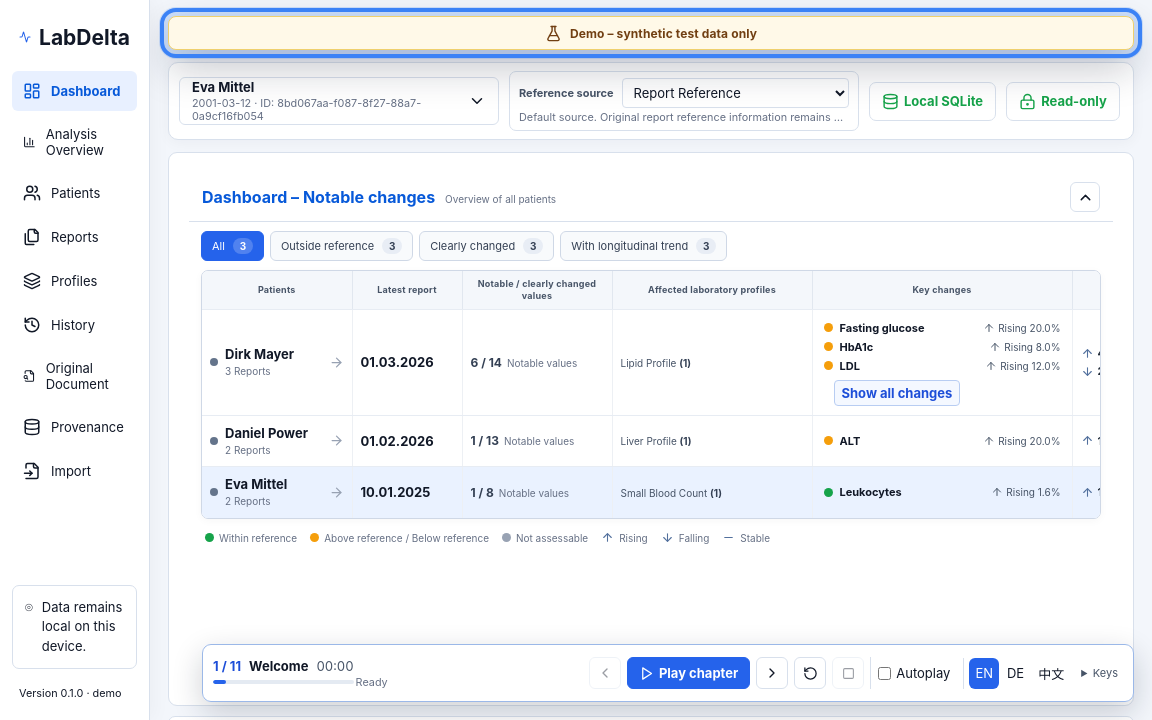
it: persisted synthetic demo flow › keeps report reference default and exposes only the demo catalog as another active choice
Select "Demo Reference Catalog v1" in the dropdown labelled "Reference source" at (735, 93), box [622, 78, 849, 108]
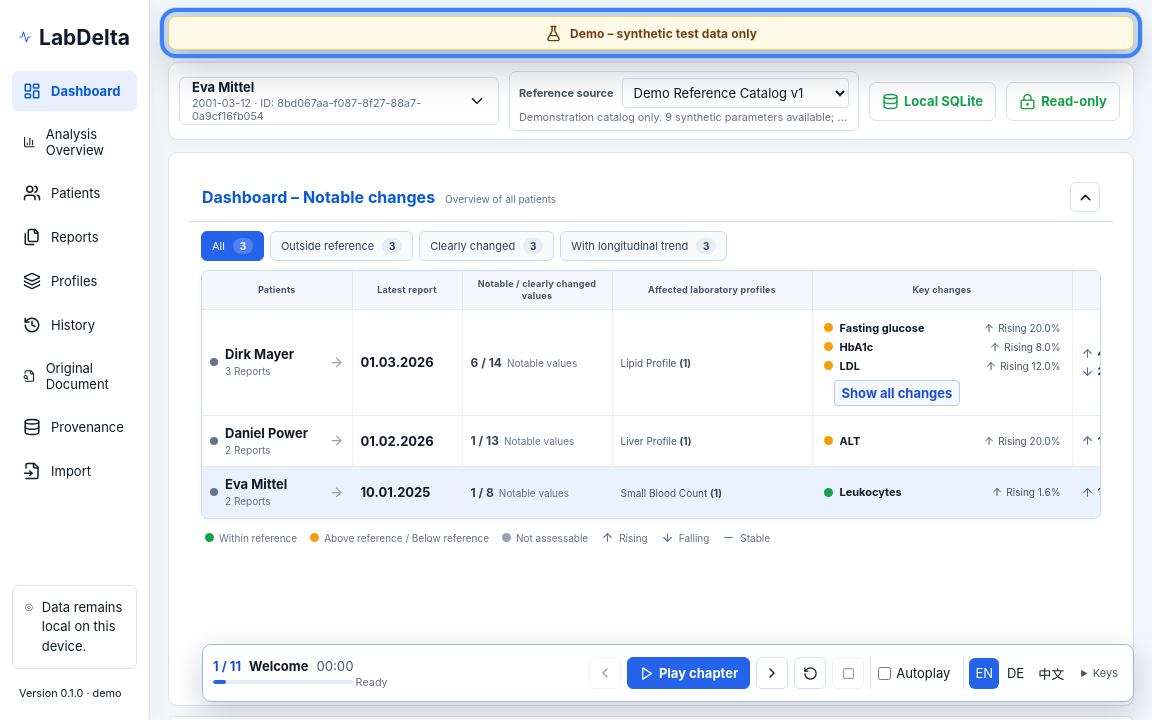
Now the text "9 synthetic parameters available; not applied automatically" is shown, box [662, 111, 968, 124]
